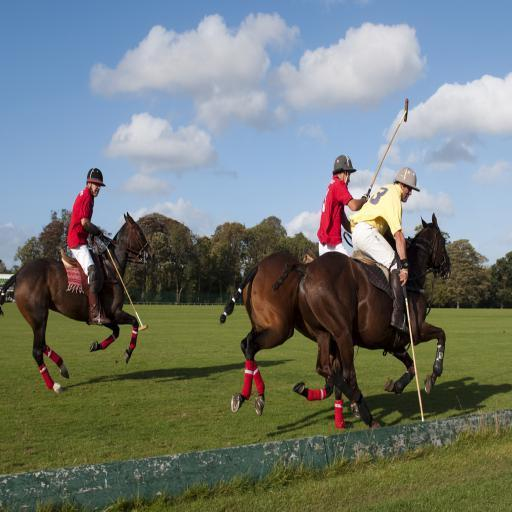horse: (272, 213, 452, 432), (0, 210, 156, 396), (218, 252, 356, 430)
